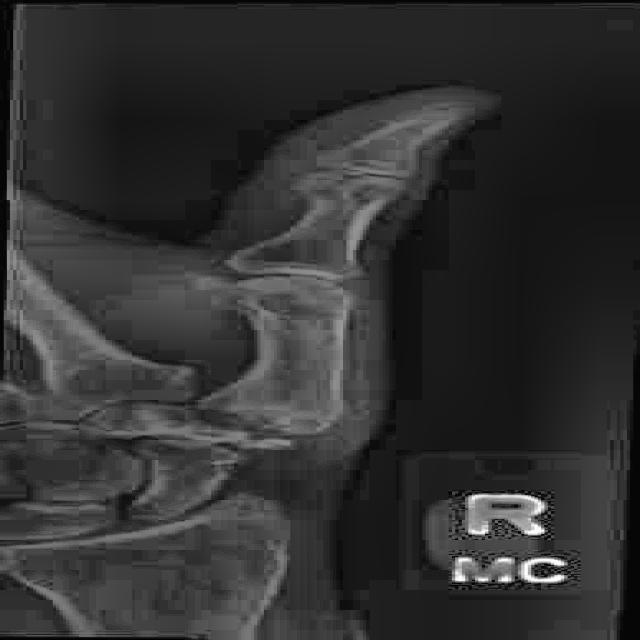fingers positive: (173, 391, 348, 461), (253, 156, 413, 229)
